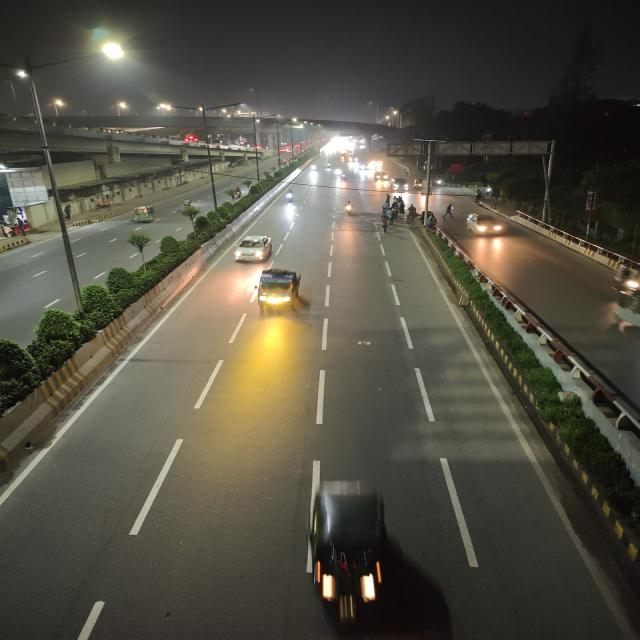car: (231, 232, 275, 266), (464, 211, 507, 240), (390, 177, 410, 191), (373, 171, 390, 183)
cng: (130, 203, 159, 224), (413, 176, 425, 190)
motorcycle: (340, 198, 356, 218), (282, 188, 298, 204)
pedestrian: (420, 209, 436, 231), (378, 213, 392, 233), (406, 205, 420, 223), (443, 202, 457, 220), (387, 208, 399, 224), (473, 190, 485, 205)
pickup_van: (247, 266, 308, 316)
